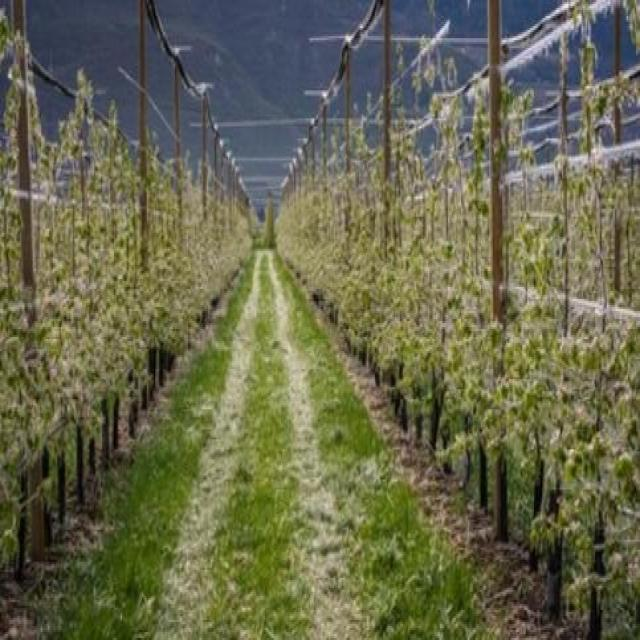row: (0, 245, 560, 640)
